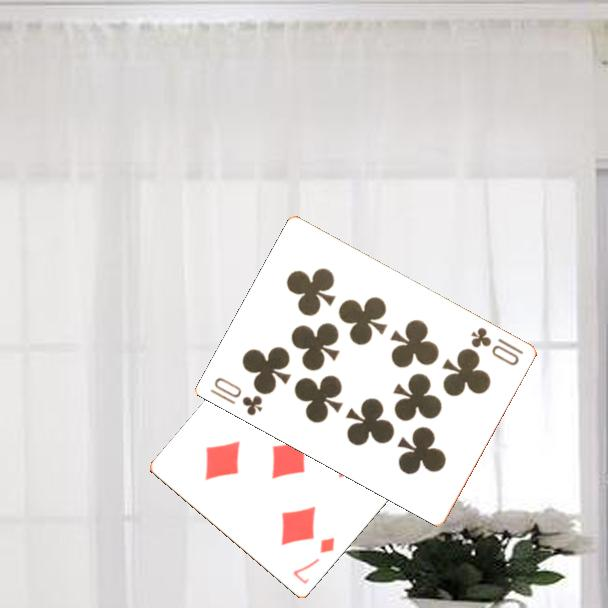c10: (467, 324, 526, 369), (207, 374, 266, 418)
d07: (289, 534, 338, 588)
